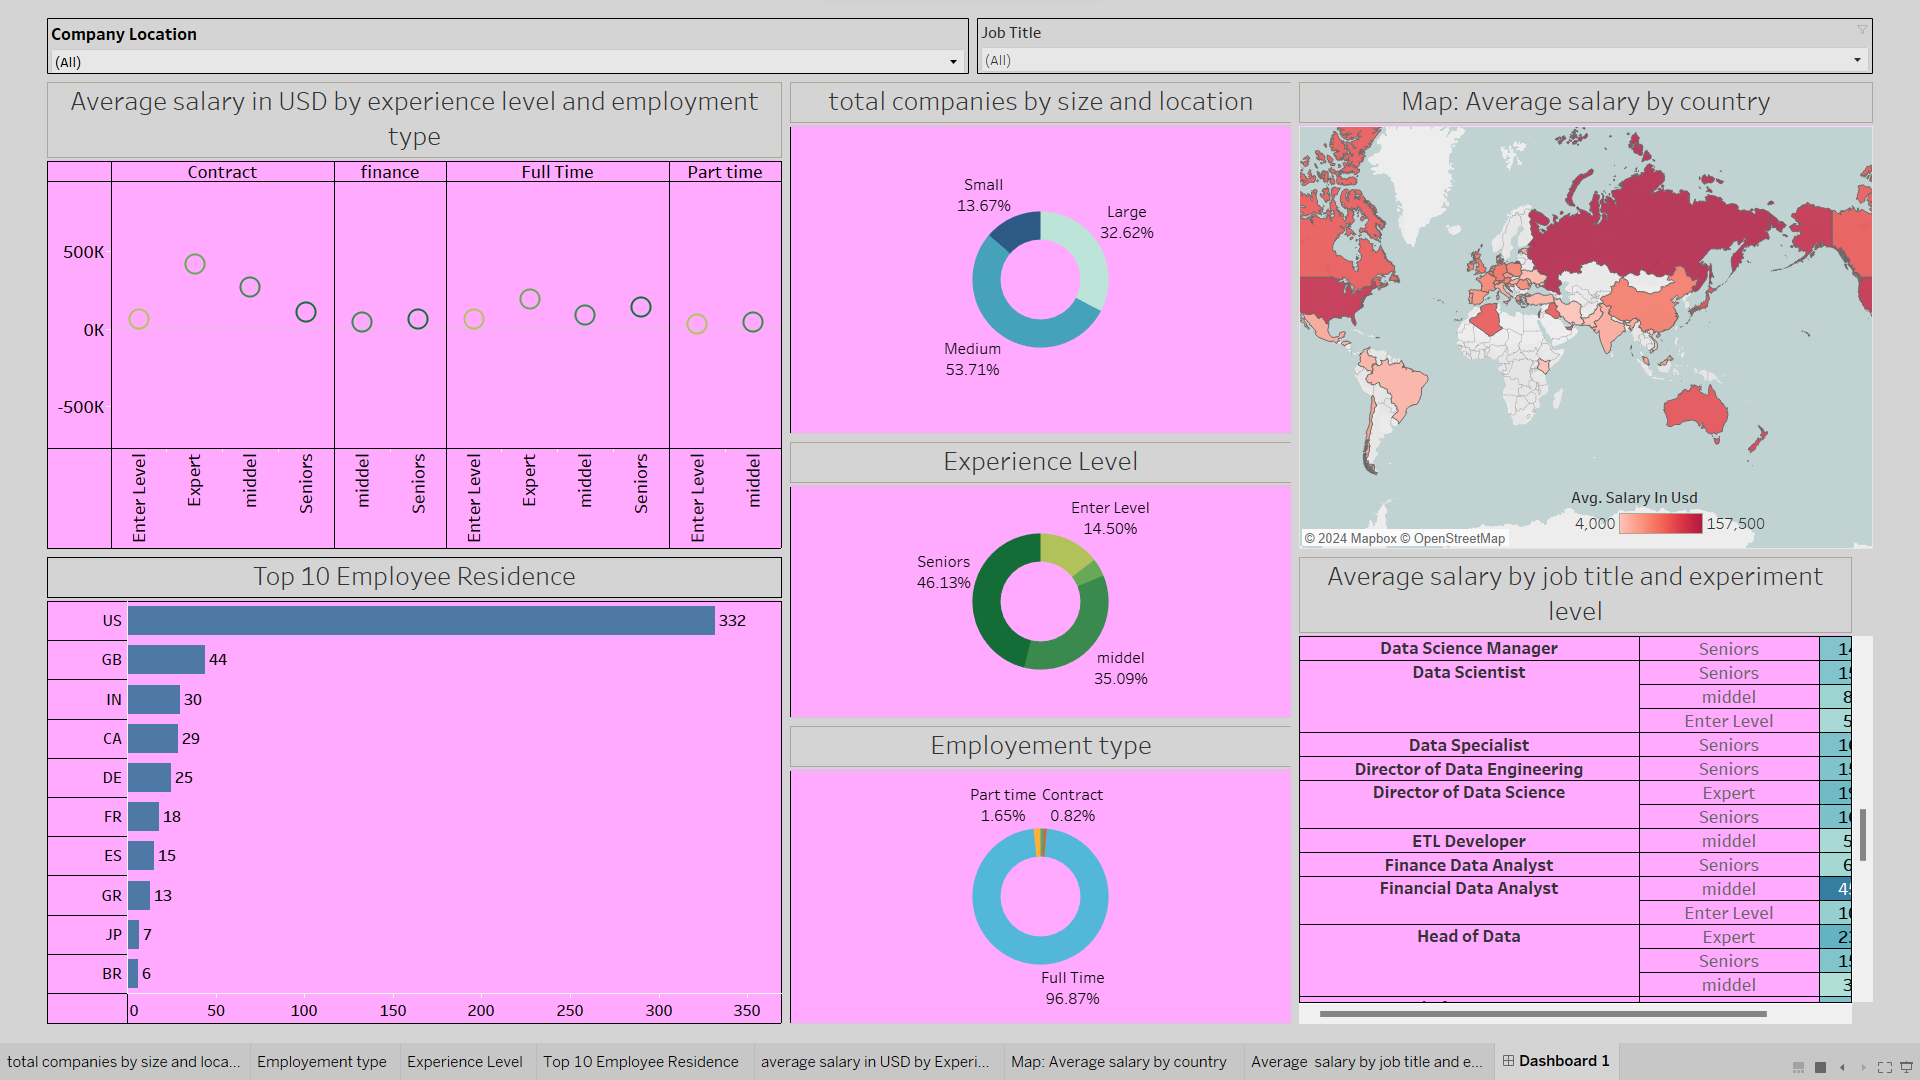

What the dashboard file says about the page in this screenshot:
{"tool":"tableau","page":{"name":"Dashboard 1","canvas":[1850,1030],"ordinal":0},"visuals":[{"type":"filter","title":"average salary in USD by Experience levle and Employment type ","param":"[federated.0pksbrd0udurp812oeo6e16imu3c].[none:company_location:nk]","box":[8,8,930.1,64.2]},{"type":"filter","title":"Map: Average salary by country","param":"[federated.0pksbrd0udurp812oeo6e16imu3c].[none:job_title:nk]","box":[938,8,904,64.2]},{"type":"worksheet","title":"average salary in USD by Experience levle and Employment type ","mark":"Shape","rows":["salary_in_usd"],"cols":["employment_type","experience_level"],"box":[8,72.2,742.6,474.9]},{"type":"worksheet","title":"total companies by size and location","mark":"Pie","rows":["Calculation_677791799265292289","Calculation_677791799265292289"],"box":[750.6,72.2,467.4,359.7]},{"type":"worksheet","title":"Map: Average salary by country","mark":"Automatic","box":[1218,72.2,624,474.9]},{"type":"worksheet","title":"Experience Level","mark":"Pie","rows":["Calculation_677791799265292289","Calculation_677791799265292289"],"box":[750.6,431.8,467.4,284.3]},{"type":"legend","title":"Map: Average salary by country","param":"[federated.0pksbrd0udurp812oeo6e16imu3c].[avg:salary_in_usd:qk]","box":[1536.4,480.7,199.1,60.9]},{"type":"worksheet","title":"Top 10 Employee Residence","mark":"Automatic","rows":["employee_residence"],"cols":["employee_residence"],"box":[8,547.1,742.6,474.9]},{"type":"worksheet","title":"Average  salary by job title and experiment level","mark":"Square","rows":["job_title","experience_level"],"box":[1218,547.1,624,474.9]},{"type":"worksheet","title":"Employement type","mark":"Pie","rows":["Calculation_677791799265292289","Calculation_677791799265292289"],"box":[750.6,716.2,467.4,305.8]}]}

Visuals, with their boxes in screenshot pixels (x1, y1, x2, y2):
"average salary in USD by Experience levle and Employment type " filter: <region>43, 8, 961, 71</region>
"Map: Average salary by country" filter: <region>961, 8, 1853, 71</region>
"average salary in USD by Experience levle and Employment type " worksheet (Shape marks): <region>43, 71, 776, 540</region>
"total companies by size and location" worksheet (Pie marks): <region>776, 71, 1237, 426</region>
"Map: Average salary by country" worksheet: <region>1237, 71, 1853, 540</region>
"Experience Level" worksheet (Pie marks): <region>776, 426, 1237, 707</region>
"Map: Average salary by country" legend: <region>1552, 475, 1748, 535</region>
"Top 10 Employee Residence" worksheet: <region>43, 540, 776, 1009</region>
"Average  salary by job title and experiment level" worksheet (Square marks): <region>1237, 540, 1853, 1009</region>
"Employement type" worksheet (Pie marks): <region>776, 707, 1237, 1009</region>
